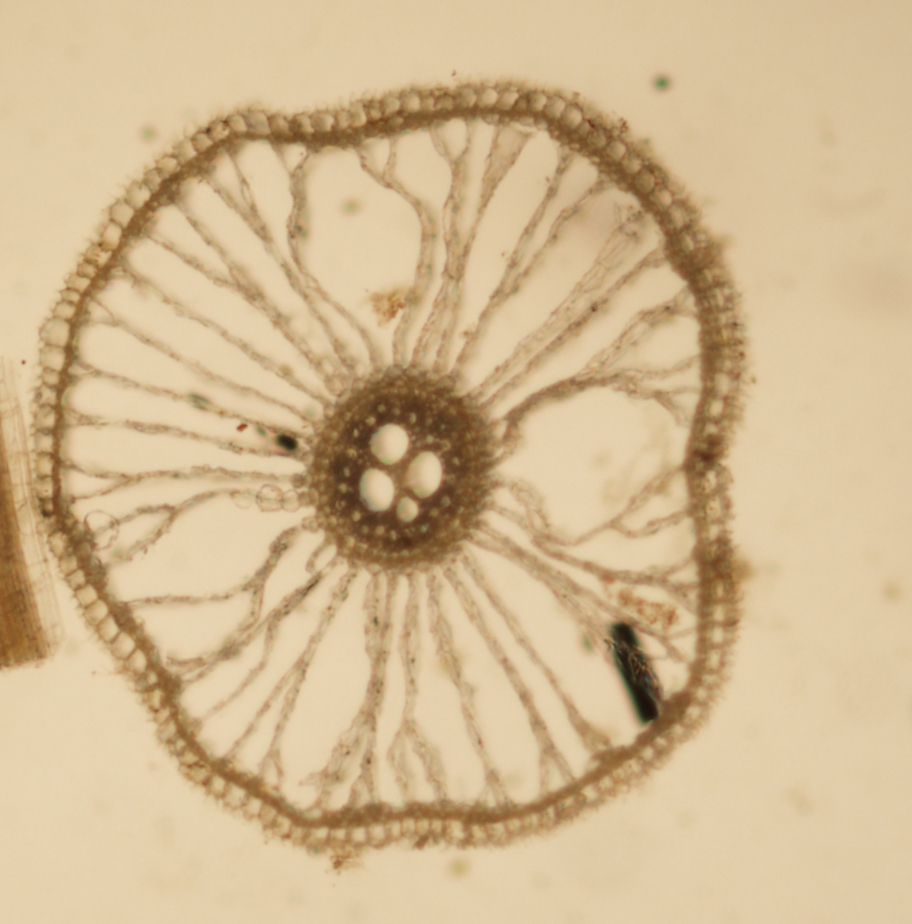lm: (402, 450, 442, 498), (369, 423, 409, 464), (358, 468, 394, 512), (396, 496, 419, 522)
